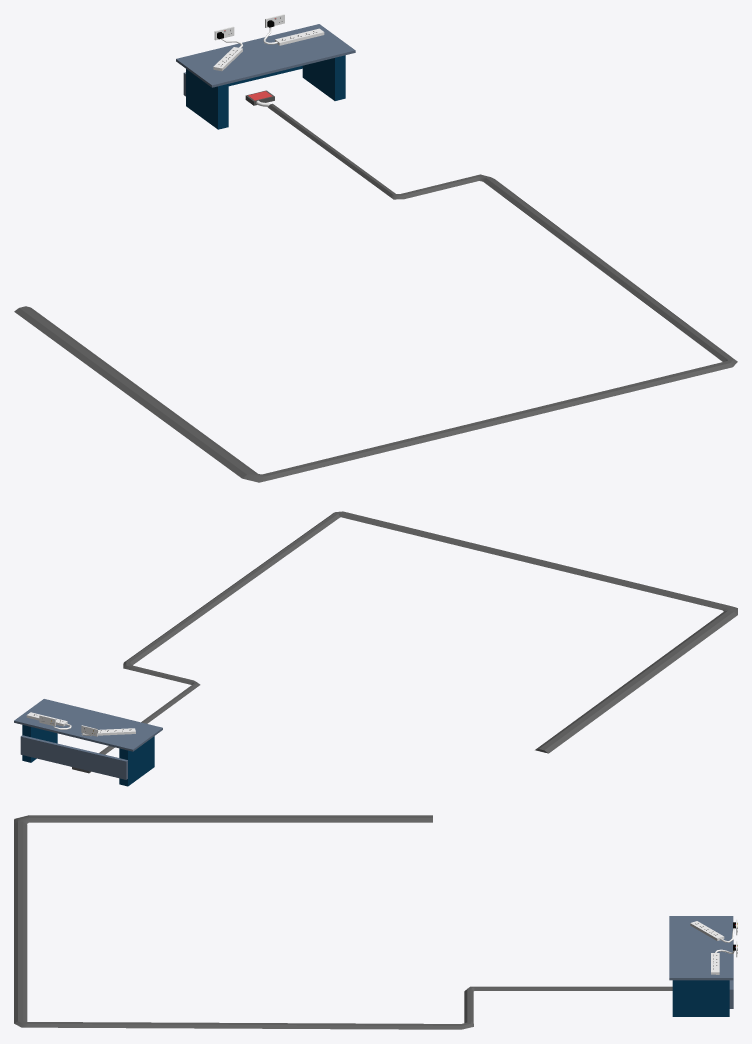
Rendered from Section3-Ovrwrld-Cable-FIX.fbx.
The picture shows the model from 3 angles, top to bottom: view 1: azimuth 30°, elevation 25°; view 2: azimuth 150°, elevation 25°; view 3: azimuth 270°, elevation 25°; orthographic projection. The views are drawn at different scales.
Parts seen in each view (by area): view 1: itm_ScatteredCable_FIX; view 2: itm_ScatteredCable_FIX; view 3: itm_ScatteredCable_FIX.
Boxes of the visible parts, x1,y1,x2,y2 form: itm_ScatteredCable_FIX: [14, 14, 737, 482]; itm_ScatteredCable_FIX: [14, 511, 737, 786]; itm_ScatteredCable_FIX: [14, 815, 737, 1029].
Size of the model in its own units: 18.15 by 2.3 by 25.89.
